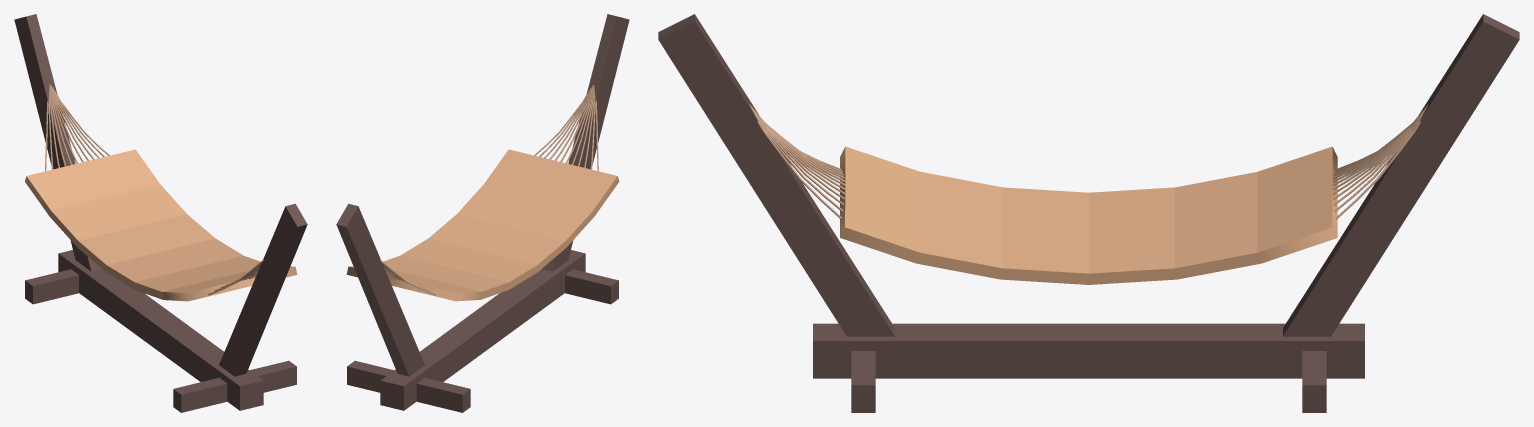
File: amaca_GIUSTA.fbx
3 renders of one model, left to right at view 1: azimuth 30°, elevation 25°; view 2: azimuth 150°, elevation 25°; view 3: azimuth 270°, elevation 25°, orthographic. The views are drawn at different scales.
Parts seen in each view (by area): view 1: Amaca.002, Cube.001, Cube, Cylinder; view 2: Amaca.002, Cube.001, Cube, Cylinder; view 3: Cube.001, Amaca.002, Cylinder, Cube.
Part boxes in pixels (<box>): Amaca.002: <box>25,149,297,301</box>; Cube.001: <box>14,14,307,410</box>; Cube: <box>25,269,296,412</box>; Cylinder: <box>45,85,263,295</box>; Amaca.002: <box>346,149,619,301</box>; Cube.001: <box>336,14,629,410</box>; Cube: <box>347,269,618,412</box>; Cylinder: <box>380,85,598,295</box>; Cube.001: <box>658,14,1519,378</box>; Amaca.002: <box>840,146,1337,284</box>; Cylinder: <box>749,104,1428,219</box>; Cube: <box>851,351,1326,412</box>.
Size of the model in its own units: 99.91 by 191 by 423.
